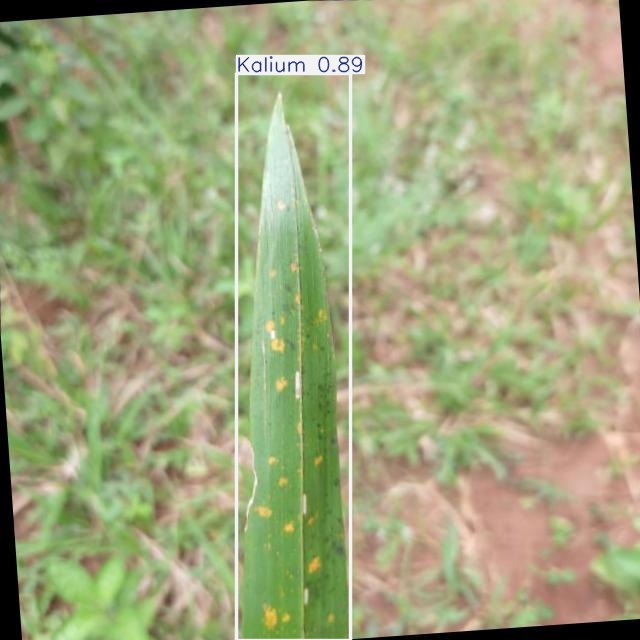Kalium: (237, 74, 351, 640)
